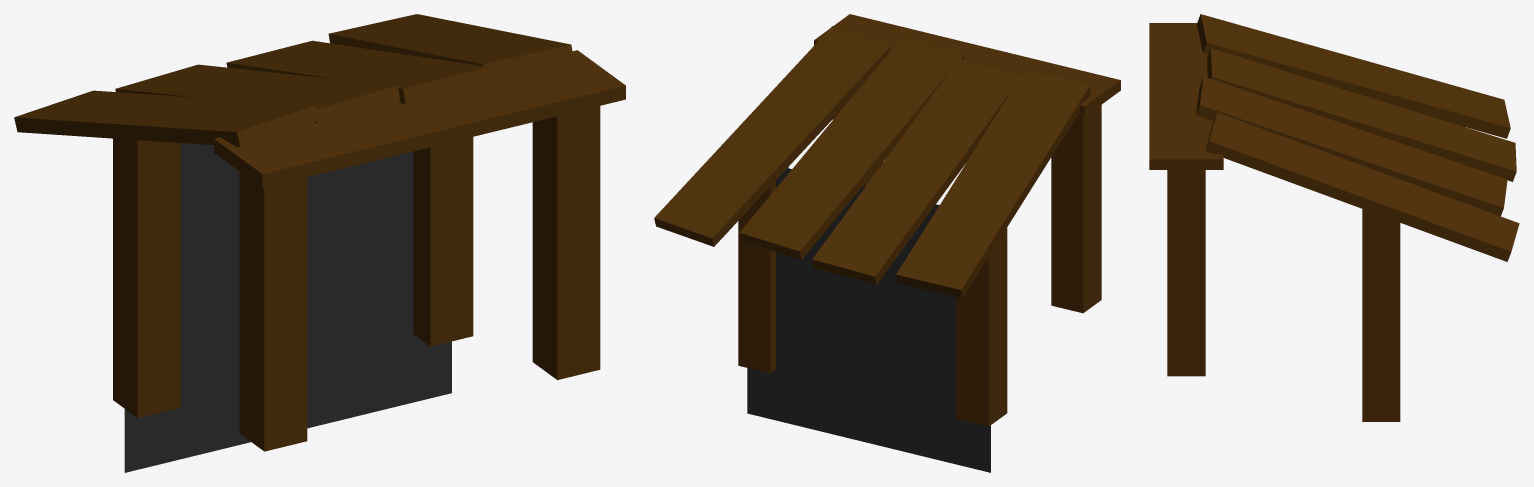
Rendered from IronMine.fbx.
3 views of the same model, side by side, from view 1: azimuth 30°, elevation 25°; view 2: azimuth 150°, elevation 25°; view 3: azimuth 270°, elevation 25° (orthographic). The views are drawn at different scales.
Parts seen in each view (by area): view 1: Plane, Cube.004, Cube.002, Cube, Cube.001, Cube.003, Cube.006, Cube.005, Cube.008, Cube.007; view 2: Plane, Cube.006, Cube.005, Cube.007, Cube.008, Cube, Cube.002, Cube.003, Cube.004; view 3: Cube.005, Cube.006, Cube.008, Cube.007, Cube.004, Cube.001, Cube.003.
Boxes of the visible parts, x1,y1,x2,y2 form: Plane: (124,143,451,472); Cube.004: (214,50,625,187); Cube.002: (113,138,180,417); Cube: (239,172,307,451); Cube.001: (532,106,600,379); Cube.003: (413,137,473,346); Cube.006: (14,90,319,146); Cube.005: (328,14,573,77); Cube.008: (226,40,491,103); Cube.007: (115,64,400,123); Plane: (747,168,990,472); Cube.006: (896,70,1091,298); Cube.005: (654,26,891,246); Cube.007: (812,58,1020,284); Cube.008: (739,36,964,259); Cube: (1051,105,1101,313); Cube.002: (956,227,1007,426); Cube.003: (738,167,788,373); Cube.004: (814,14,1120,116); Cube.005: (1205,112,1519,261); Cube.006: (1196,14,1510,138); Cube.008: (1196,76,1507,216); Cube.007: (1207,48,1516,181); Cube.004: (1149,23,1223,169); Cube.001: (1167,170,1205,376); Cube.003: (1362,209,1400,421).
Size of the model in its own units: 556 by 570 by 570.
